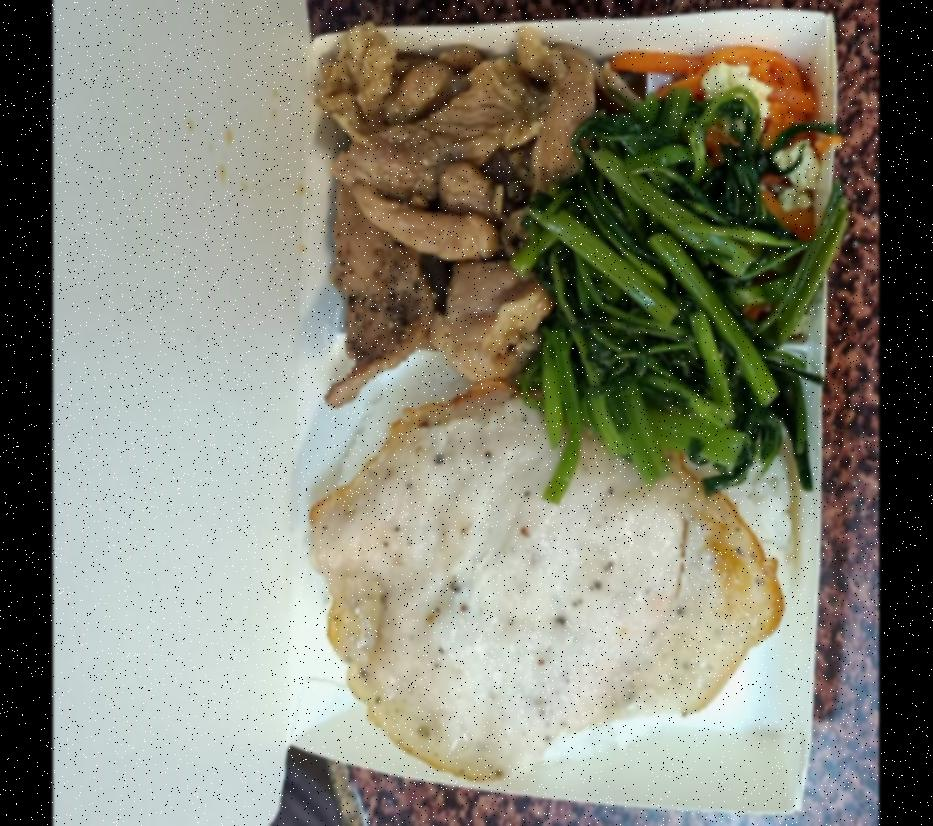big grilled chicken leg: (300, 0, 854, 799)
big herbal chicken leg: (290, 375, 790, 761)
braised fish fillet: (540, 103, 782, 463), (670, 50, 818, 202)
braised pork: (322, 409, 750, 735), (316, 36, 568, 361)
